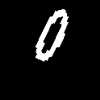chain: (36, 9, 67, 60)
